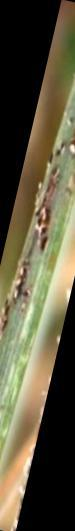Wheat: (11, 258, 46, 316), (46, 149, 75, 196), (30, 204, 56, 250)
